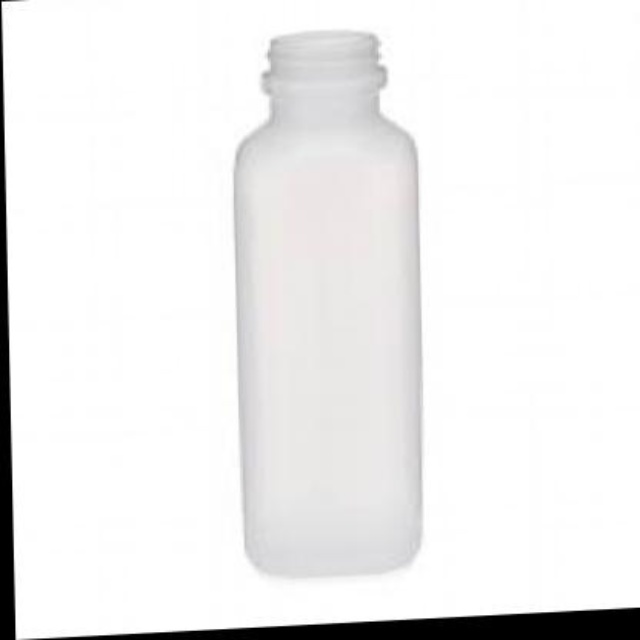trash: (235, 31, 420, 574)
